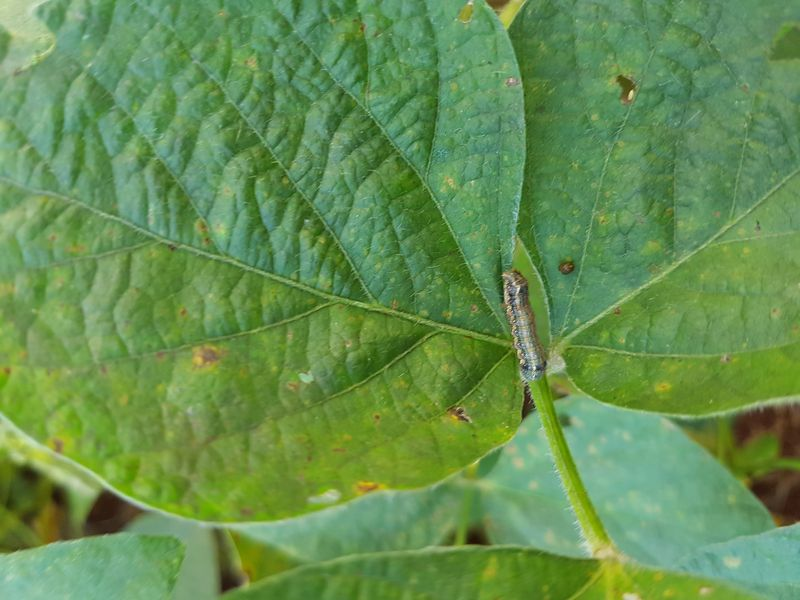Spodoptera_albula: (458, 258, 557, 391)
